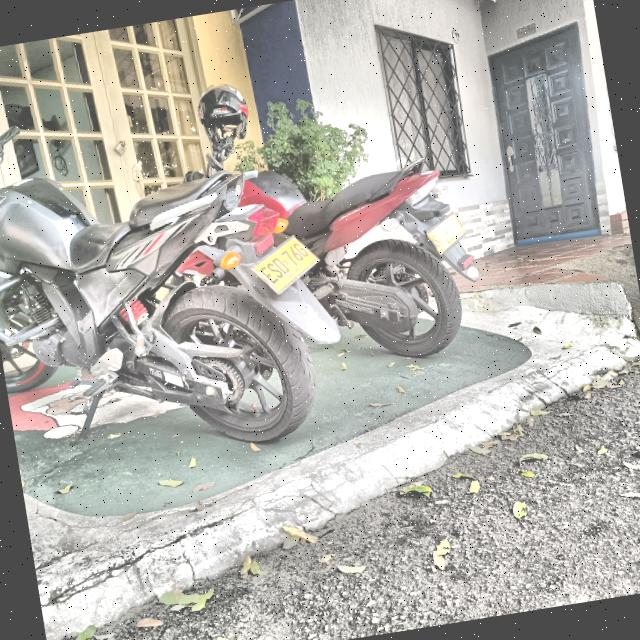plate: (252, 237, 319, 294)
